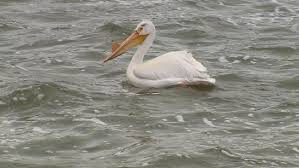pelican: (105, 20, 216, 87)
